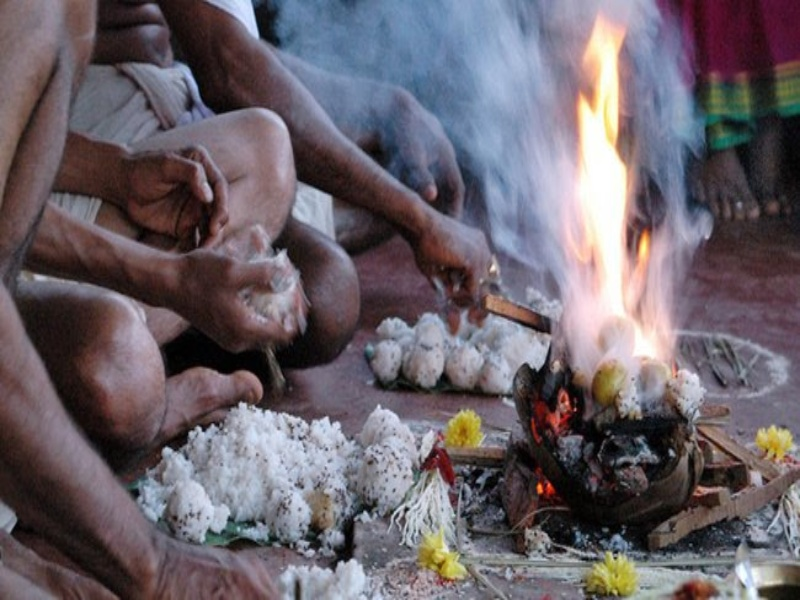smoke: (451, 1, 675, 356)
